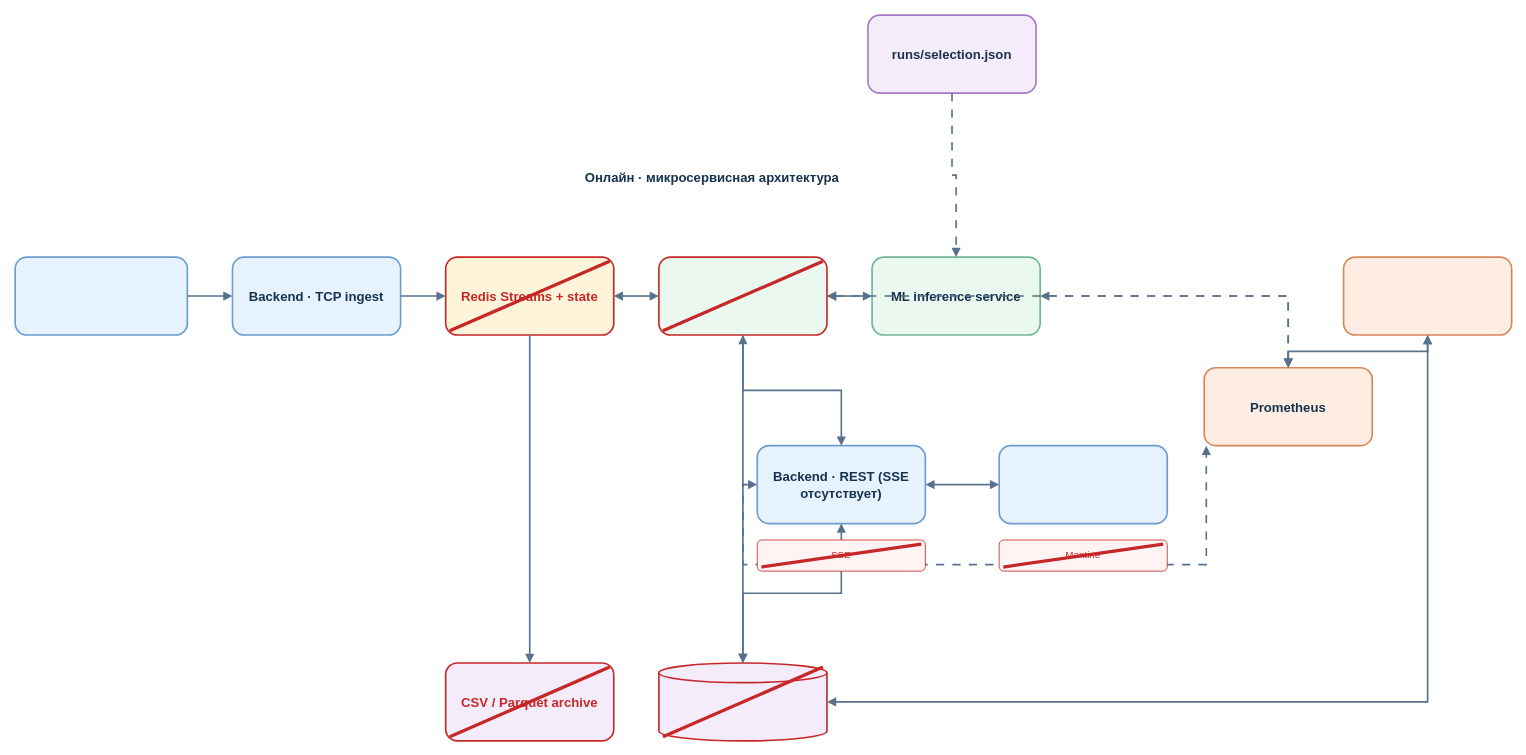
This 1526x755 diagram has some shape labels left out. The shapes that lost their labels are listed below. From the top down, each one's centre as x and y in pixels, then its label:
At point 101,295: "NDTP эмулятор / поток".
At point 742,295: "Feature worker + scheduler".
At point 1427,295: "Grafana".
At point 1083,484: "React · MapLibre (Mantine отсутствует)".
At point 742,701: "PostgreSQL".
